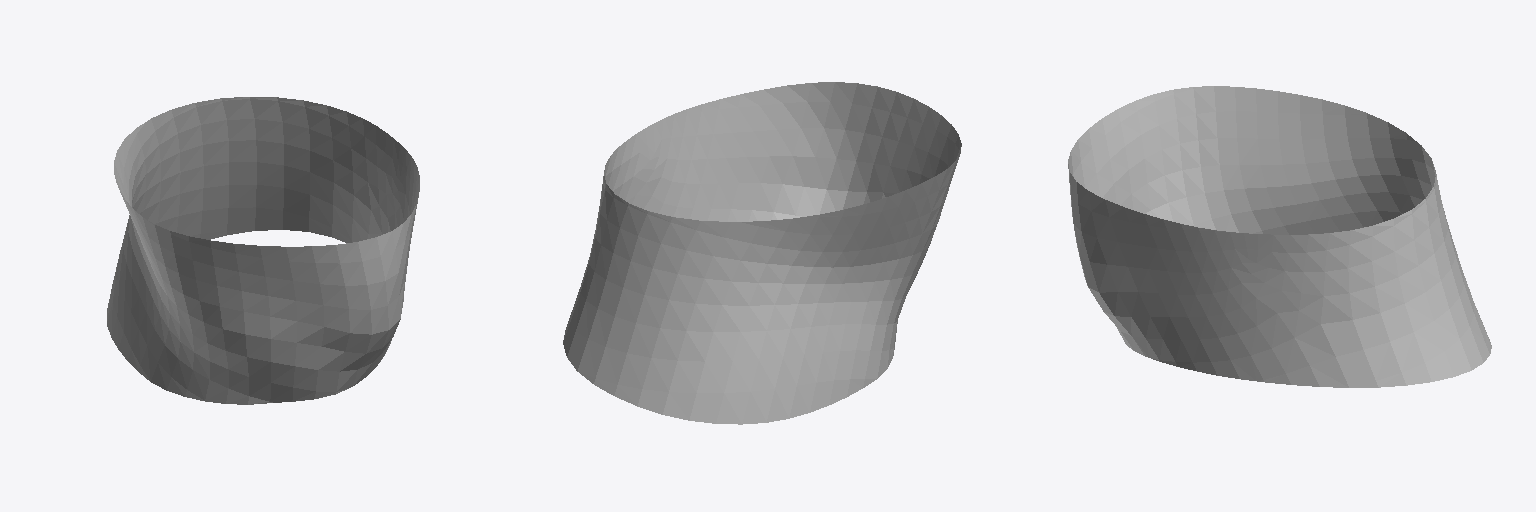
Rendered from genunchiS.obj.
The picture shows the model from 3 angles: view 1: azimuth 30°, elevation 25°; view 2: azimuth 150°, elevation 25°; view 3: azimuth 270°, elevation 25°; orthographic projection.
Visible parts, largest first — view 1: genunchiS; view 2: genunchiS; view 3: genunchiS.
Part boxes in pixels (x1,y1,x2,y2): genunchiS: (107,97,419,404); genunchiS: (563,82,961,424); genunchiS: (1068,86,1491,387).
Size of the model in its own units: 1.5 by 0.9668 by 1.88.